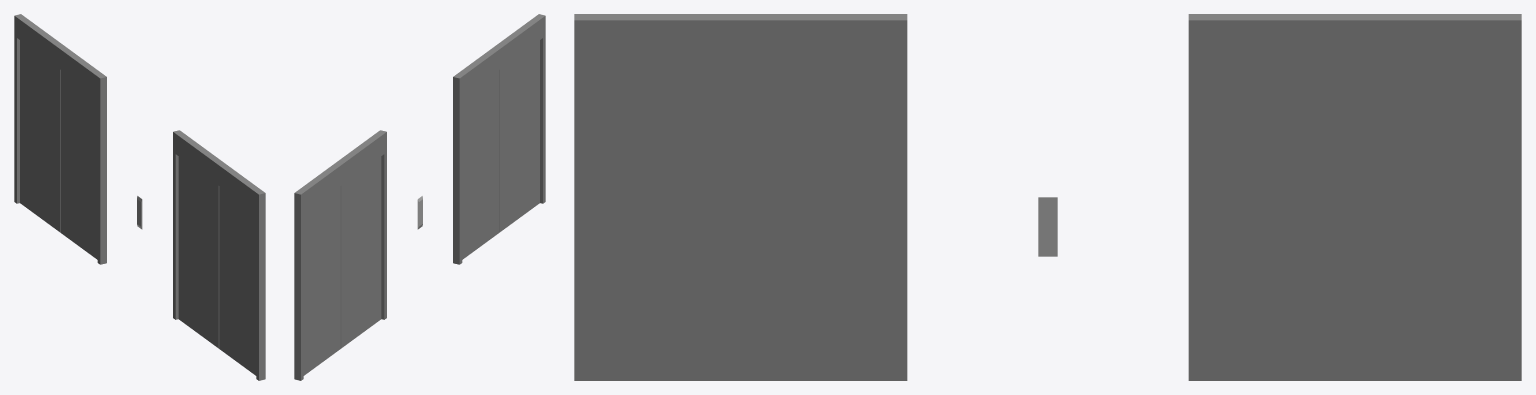
The model's file is Elevator.fbx.
3 renders of one model, left to right at view 1: azimuth 30°, elevation 25°; view 2: azimuth 150°, elevation 25°; view 3: azimuth 270°, elevation 25°, orthographic. The views are drawn at different scales.
Parts seen in each view (by area): view 1: Door.002, Door.001, Border, Border.001; view 2: Door.001, Door.002, Border.001, Border; view 3: Door.001, Door.002, Border, Border.001, Button.
Part boxes in pixels (x1,y1,x2,y2): Door.002: [178, 156, 256, 375]; Door.001: [20, 40, 97, 259]; Border: [14, 14, 106, 264]; Border.001: [173, 130, 265, 380]; Door.001: [303, 156, 381, 375]; Door.002: [462, 40, 539, 259]; Border.001: [453, 14, 545, 264]; Border: [294, 130, 386, 380]; Door.001: [1198, 59, 1511, 380]; Door.002: [584, 59, 897, 380]; Border: [1188, 14, 1521, 380]; Border.001: [574, 14, 907, 380]; Button: [1038, 197, 1057, 256].
Size of the model in its own units: 11.66 by 311 by 740.
